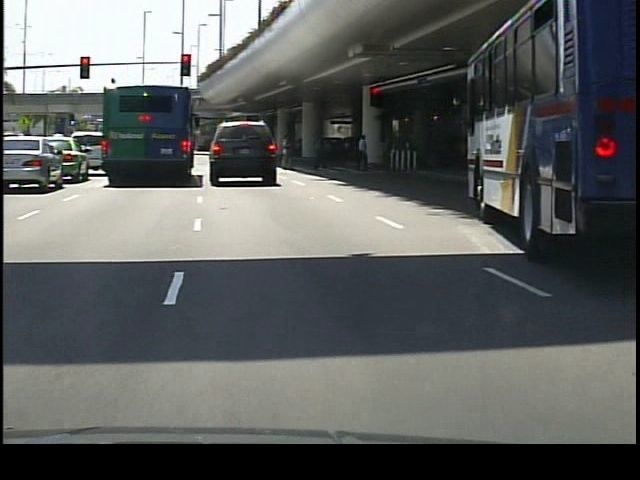person: (308, 129, 329, 174), (350, 132, 370, 171), (277, 130, 294, 173)
